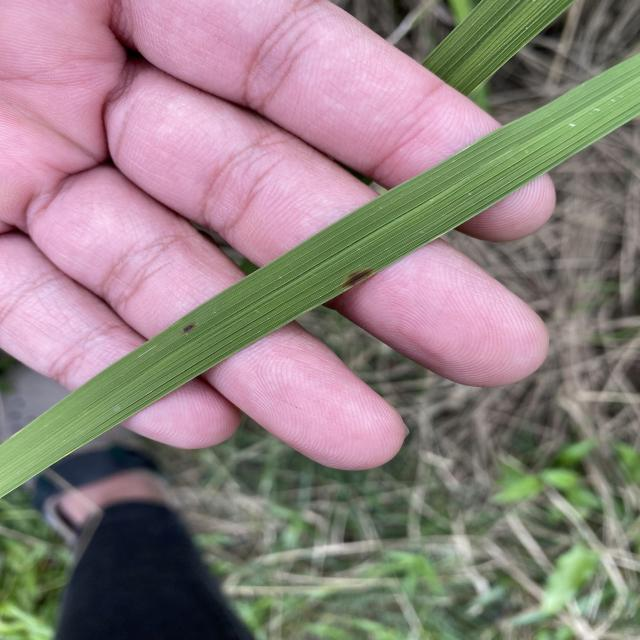Dom nau: (338, 266, 376, 291), (178, 321, 200, 336)
